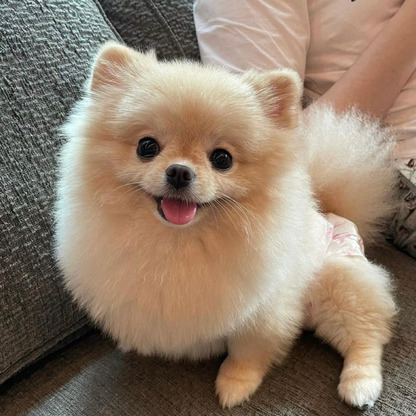Pomeranian: (49, 35, 396, 397)
